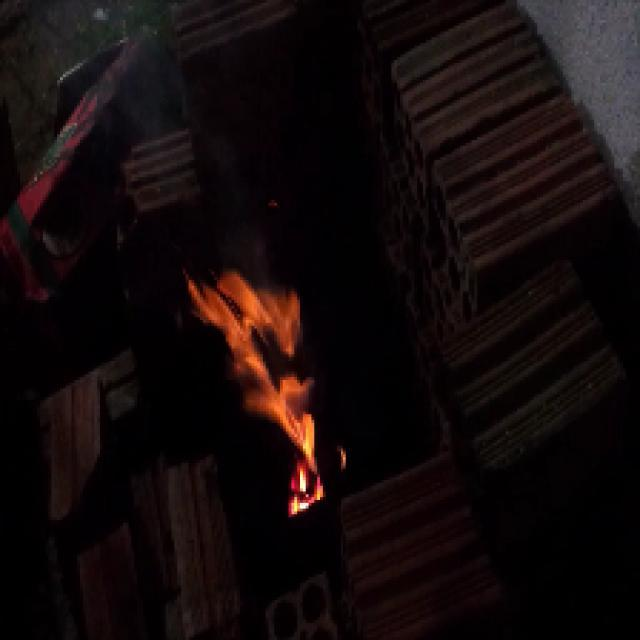Fire: (189, 258, 339, 514)
